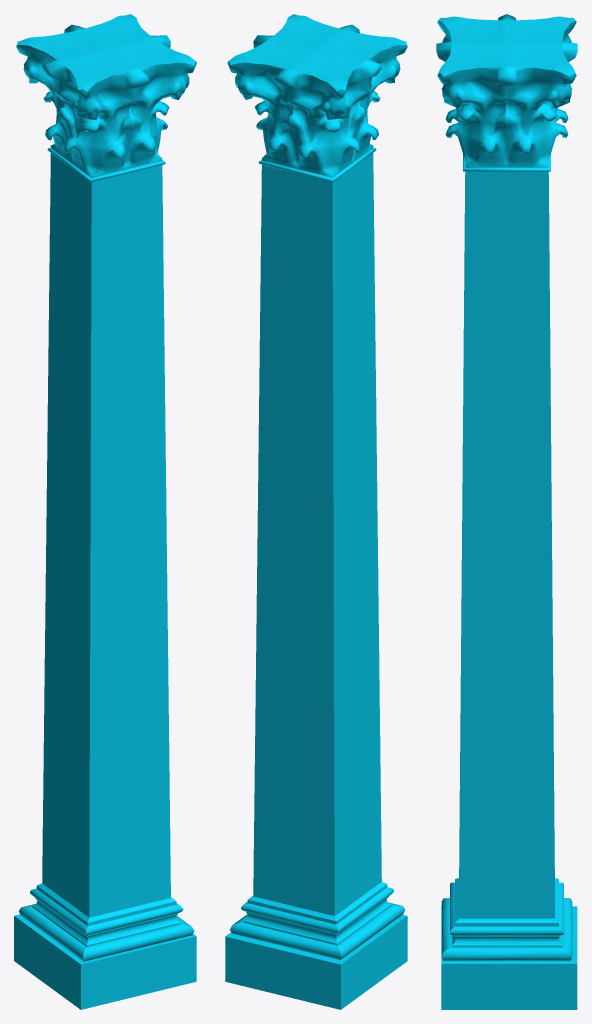
The model's file is Peter_Pillar02.FBX.
The picture shows the model from 3 angles, left to right: view 1: azimuth 30°, elevation 25°; view 2: azimuth 150°, elevation 25°; view 3: azimuth 270°, elevation 25°; orthographic projection.
Parts seen in each view (by area): view 1: Peter_Pillar006; view 2: Peter_Pillar006; view 3: Peter_Pillar006.
Boxes of the visible parts, left/top/right/bottom form: Peter_Pillar006: left=14, top=14, right=196, bottom=1009; Peter_Pillar006: left=225, top=14, right=407, bottom=1009; Peter_Pillar006: left=436, top=14, right=577, bottom=1009.
Size of the model in its own units: 375 by 2740 by 375.
